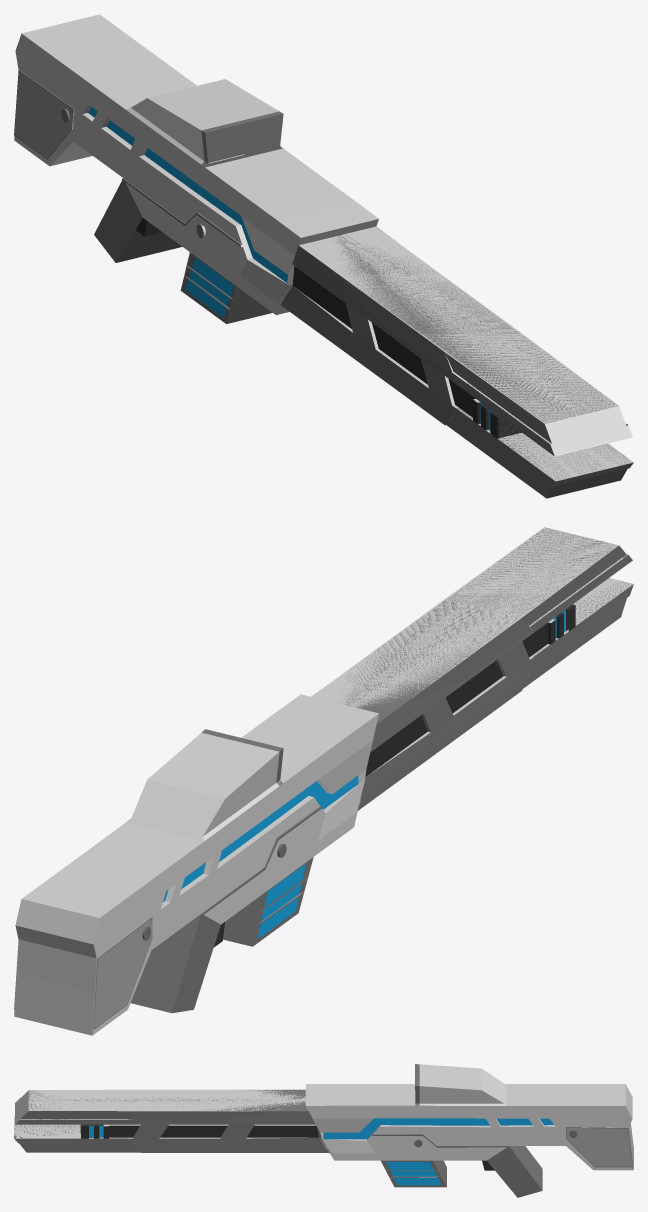
The model's file is gun.fbx.
3 renders of one model, top to bottom at view 1: azimuth 30°, elevation 25°; view 2: azimuth 150°, elevation 25°; view 3: azimuth 270°, elevation 25°, orthographic. The views are drawn at different scales.
Parts seen in each view (by area): view 1: Plane; view 2: Plane; view 3: Plane.
Boxes of the visible parts, x1,y1,x2,y2 form: Plane: (14, 14, 633, 498); Plane: (14, 527, 633, 1035); Plane: (14, 1064, 633, 1197).
Bounding box in the file's own units: 13.43 × 30.32 × 152.
